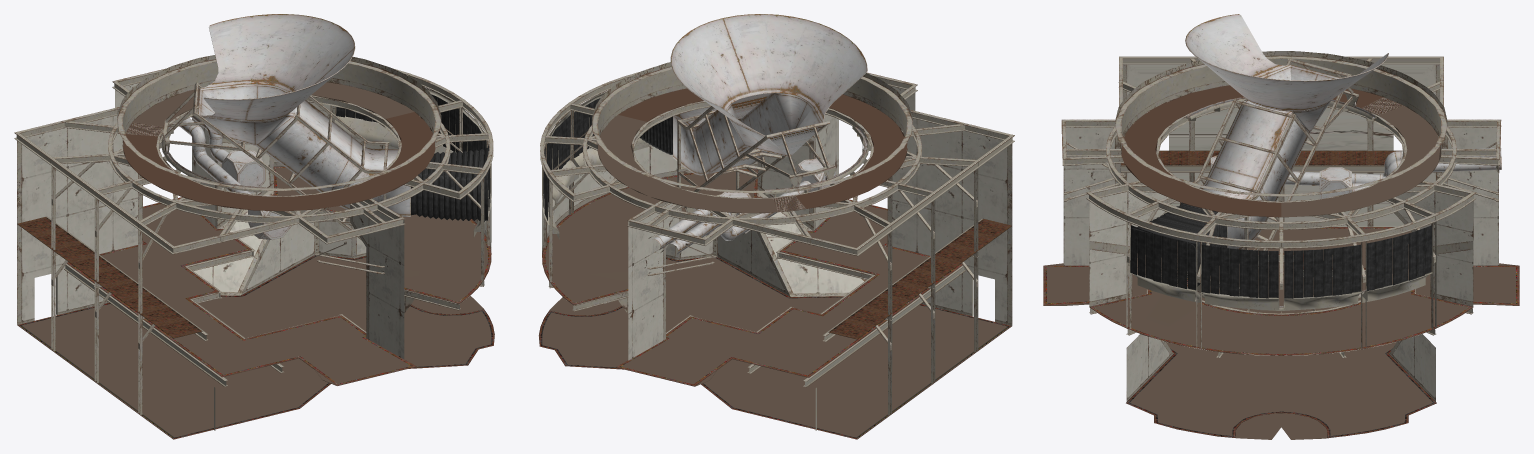
Rendered from bucket_excavator_core.glb.
3 views of the same model, side by side, from view 1: azimuth 30°, elevation 25°; view 2: azimuth 150°, elevation 25°; view 3: azimuth 270°, elevation 25° (orthographic). The views are drawn at different scales.
Parts seen in each view (by area): view 1: bucket_excavator_core_LOD0; view 2: bucket_excavator_core_LOD0; view 3: bucket_excavator_core_LOD0.
Boxes of the visible parts, bbox=[...] form: bucket_excavator_core_LOD0: bbox=[14, 14, 494, 439]; bucket_excavator_core_LOD0: bbox=[538, 14, 1014, 439]; bucket_excavator_core_LOD0: bbox=[1043, 14, 1519, 439].
Size of the model in its own units: 19.59 by 14.5 by 20.77.
8 materials, 8 textured.
